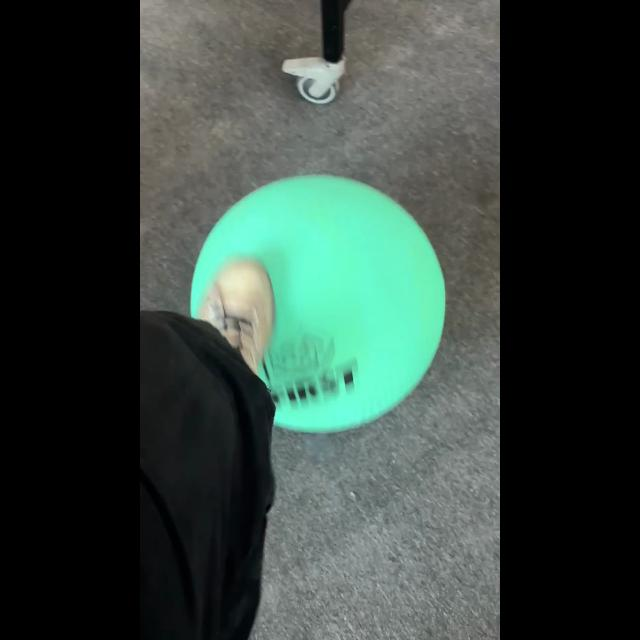ALGAE: (190, 173, 446, 434)
